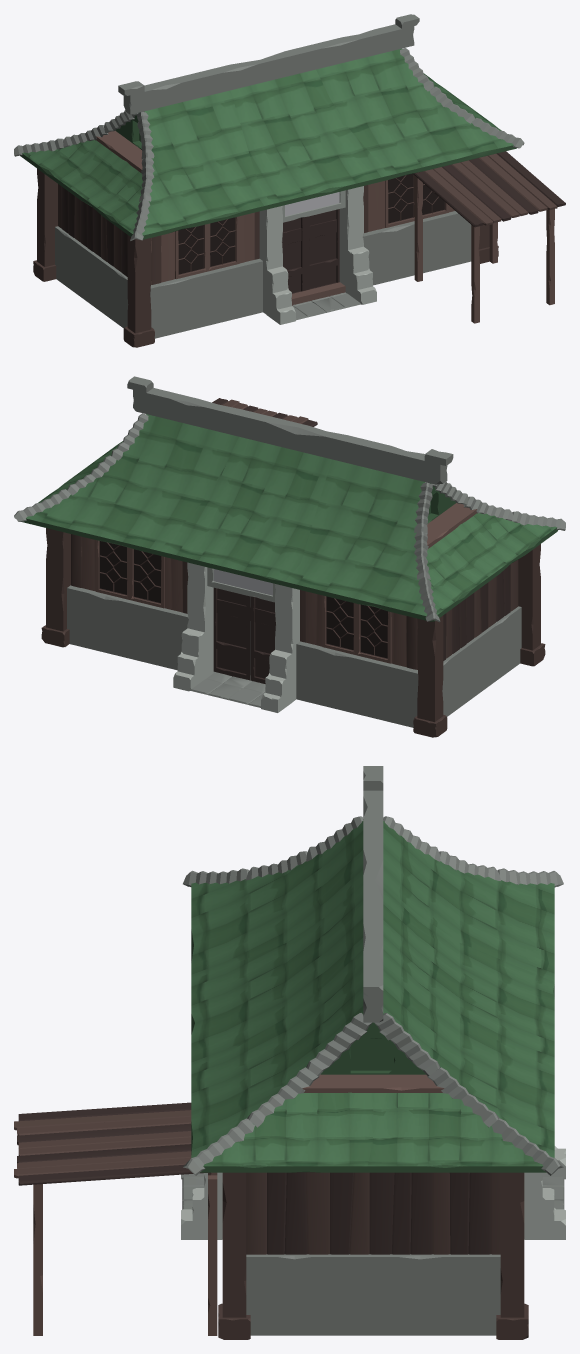
File: SM_Butcher_01.fbx
3 renders of one model, top to bottom at view 1: azimuth 30°, elevation 25°; view 2: azimuth 150°, elevation 25°; view 3: azimuth 270°, elevation 25°, orthographic. The views are drawn at different scales.
Visible parts, largest first — view 1: Cube.020; view 2: Cube.020; view 3: Cube.020.
Boxes of the visible parts, left/top/right/bottom form: Cube.020: left=14, top=14, right=565, bottom=347; Cube.020: left=14, top=376, right=565, bottom=737; Cube.020: left=14, top=766, right=565, bottom=1339.
Bounding box in the file's own units: 1116 × 581 × 881.
Materials: 1 (1 with a texture image).
